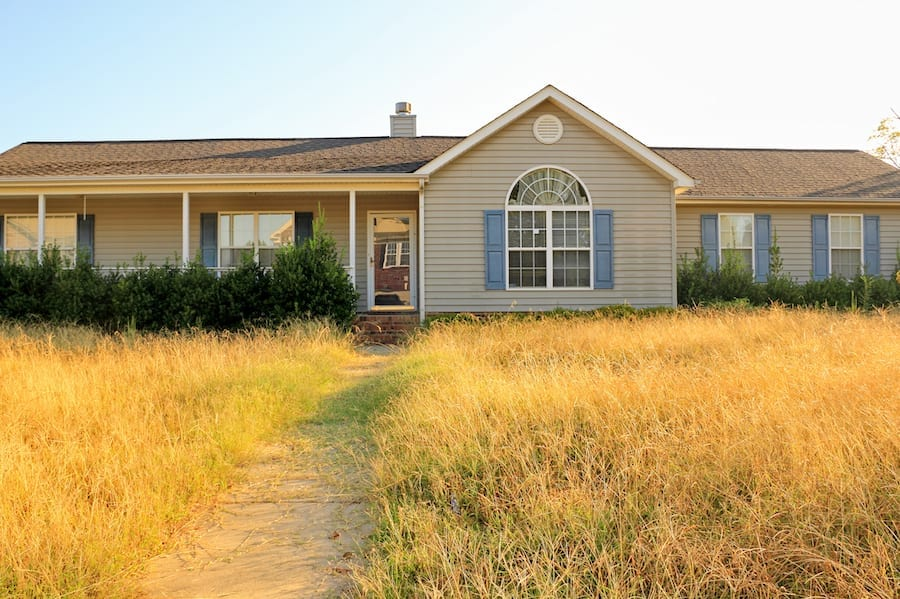grass: (1, 322, 898, 599)
